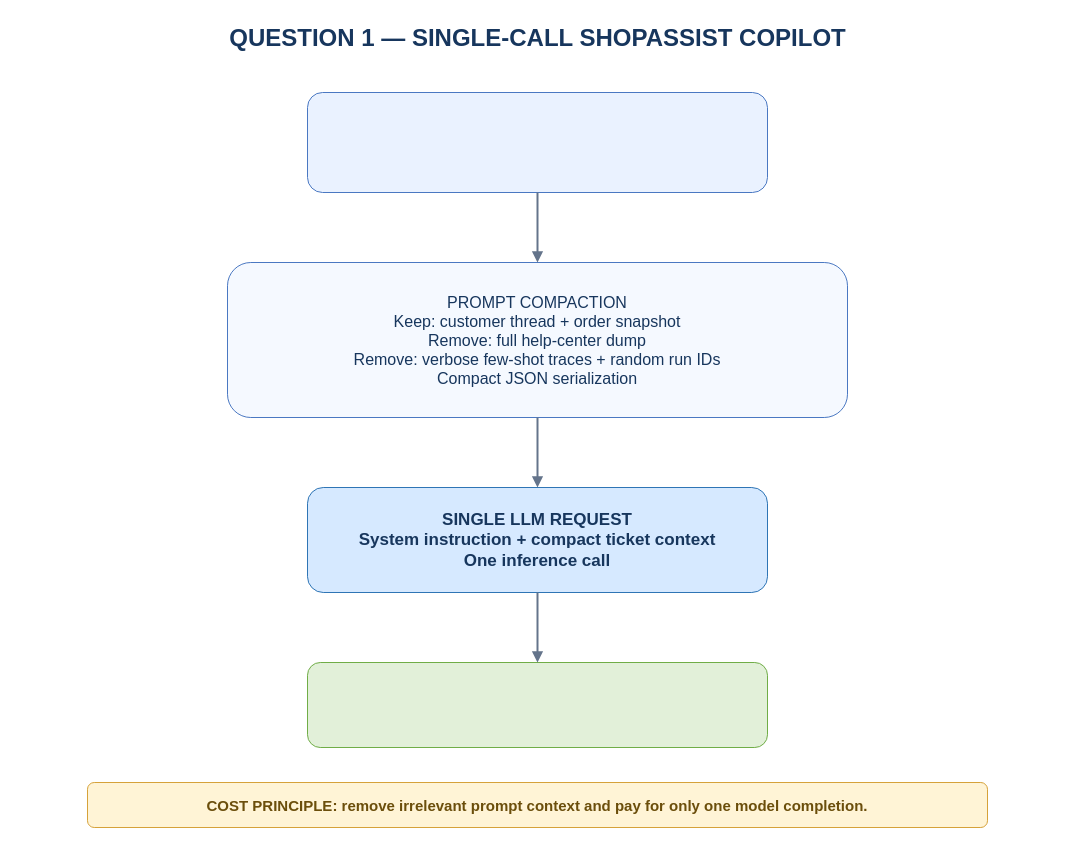
The diagram is 1074 pixels wide and 845 high, and some of its shapes have lost their labels. The shapes that lost their labels are listed below. From the top down, each one's centre as x and y in pixels, then its label:
(537,142): INPUT DATA Customer ticket + conversation thread Structured order record
(537,705): STRUCTURED RESULT action • kb_article • customer_reply
